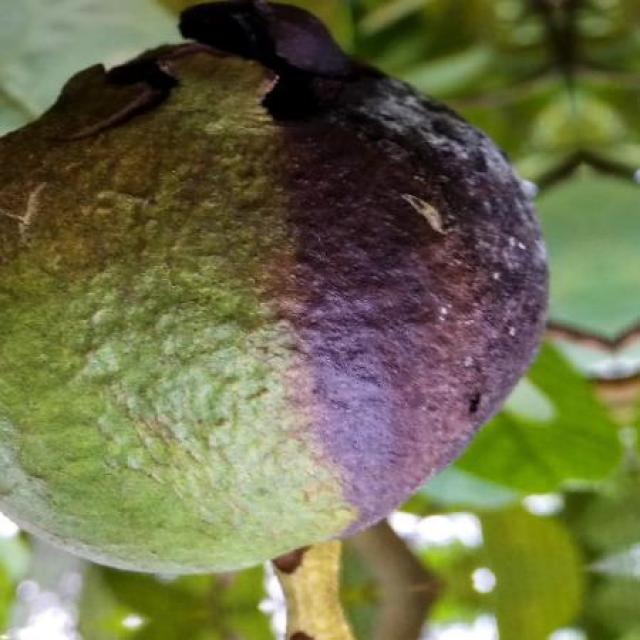Styler and Root: (181, 1, 548, 534)
